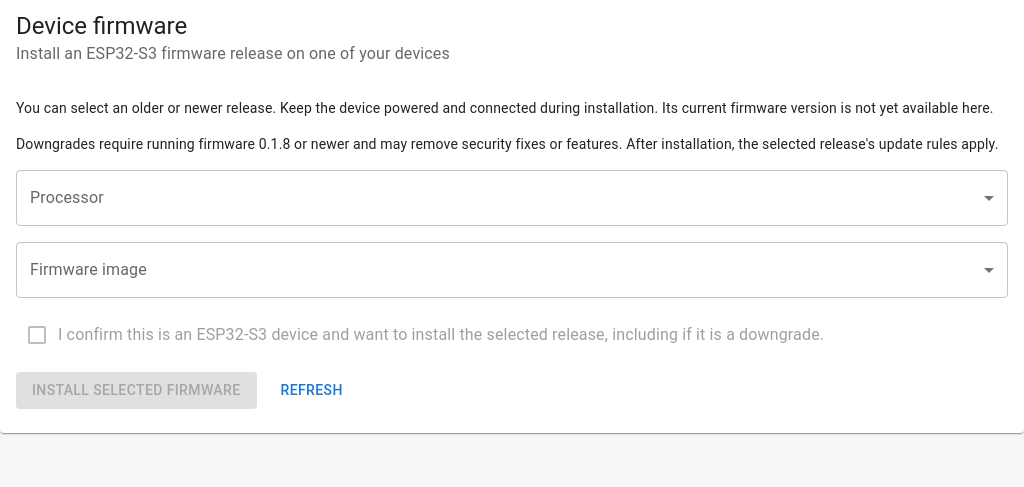
Test: Device firmware › allows ESP32-S3 with quantum capability true
Click the dropdown named "Processor" next to "Processor" at x=512, y=198, box x1=16 y1=170 x2=1008 y2=226
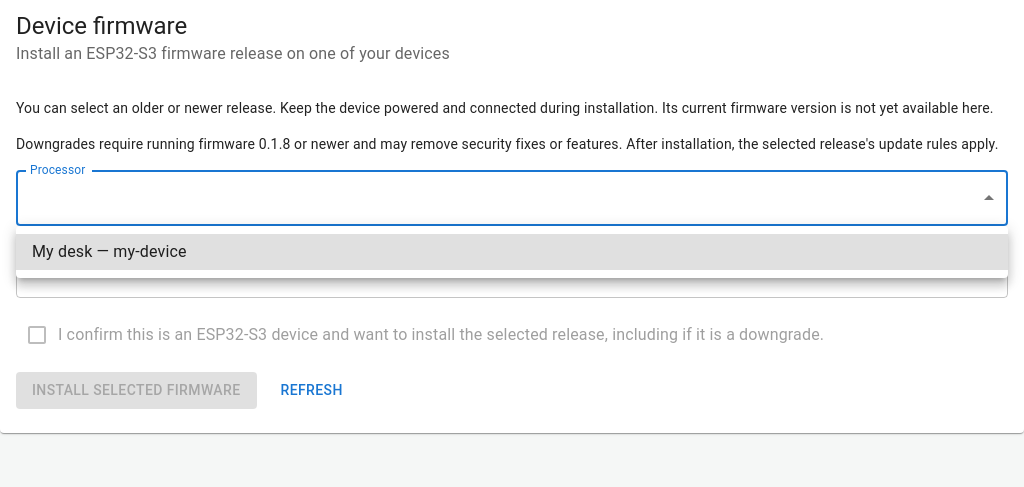
Click the option "My desk — my-device" at x=62, y=252, box x1=16 y1=234 x2=1008 y2=270
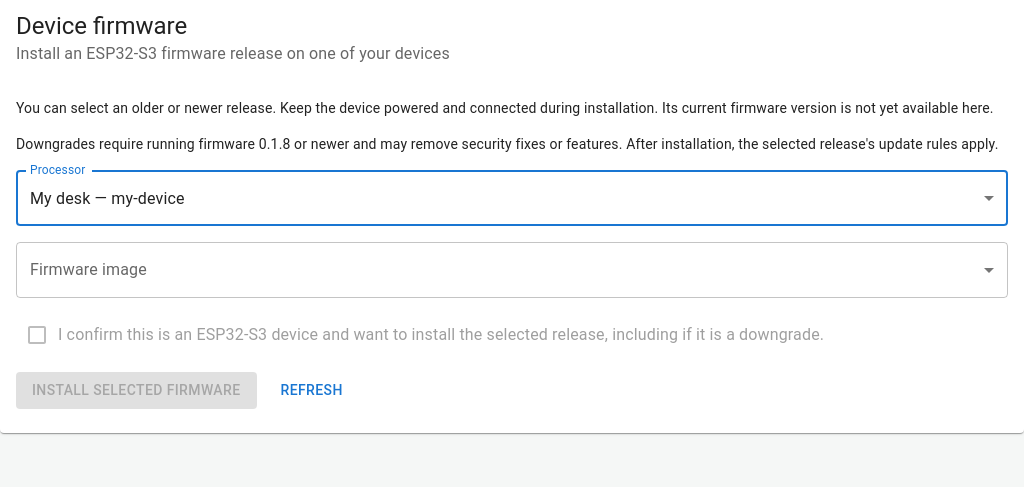
Click the dropdown named "Firmware image" at x=512, y=270, box x1=16 y1=242 x2=1008 y2=298
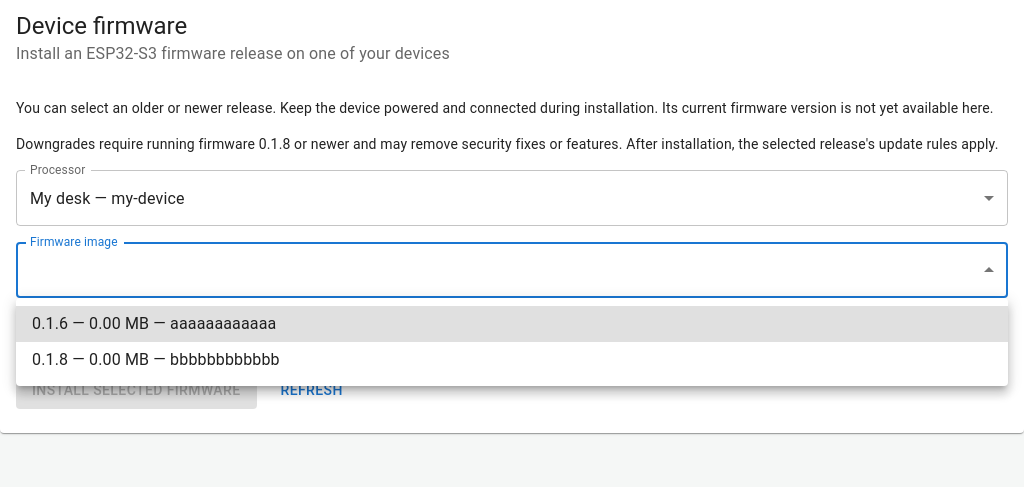
Click the option "0.1.6" at x=50, y=324, box x1=16 y1=306 x2=1008 y2=342
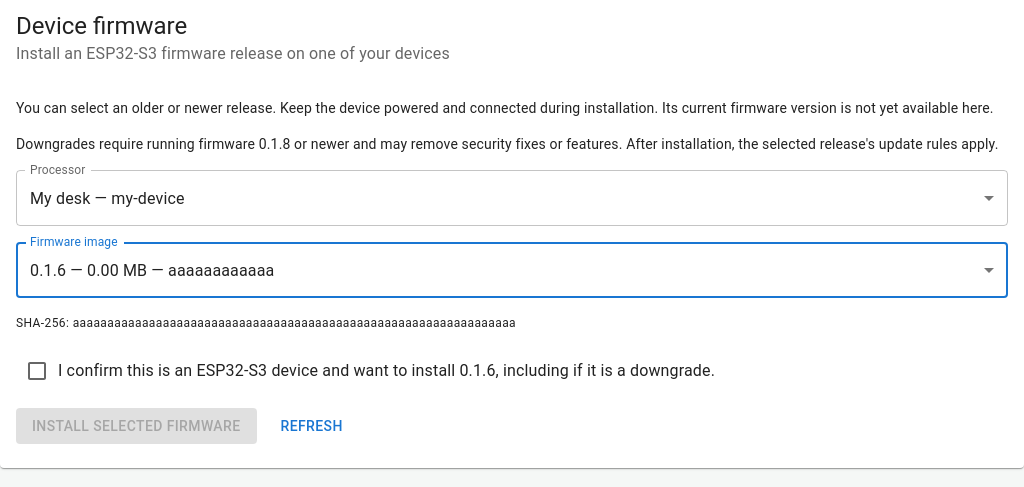
Expected: the checkbox is enabled, x1=25 y1=359 x2=715 y2=383
